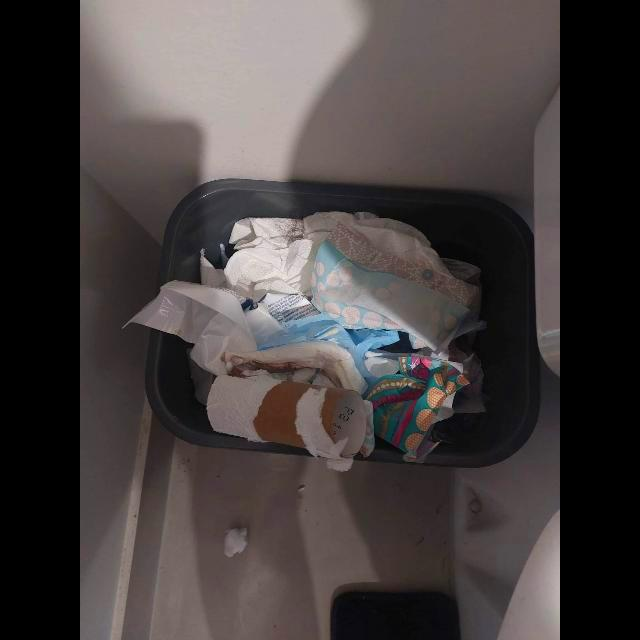cardboard: (253, 382, 367, 459)
paper: (122, 280, 284, 376), (304, 212, 481, 288), (201, 218, 316, 302)
plastic_sachet: (366, 357, 470, 463)
